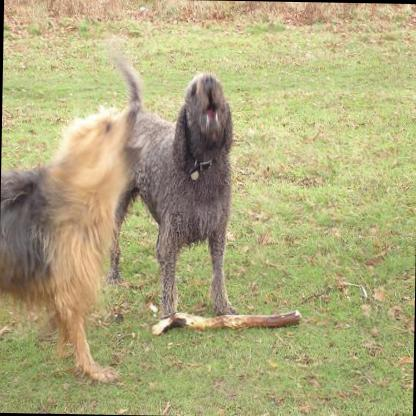briard: (0, 95, 143, 385), (104, 48, 233, 316)
